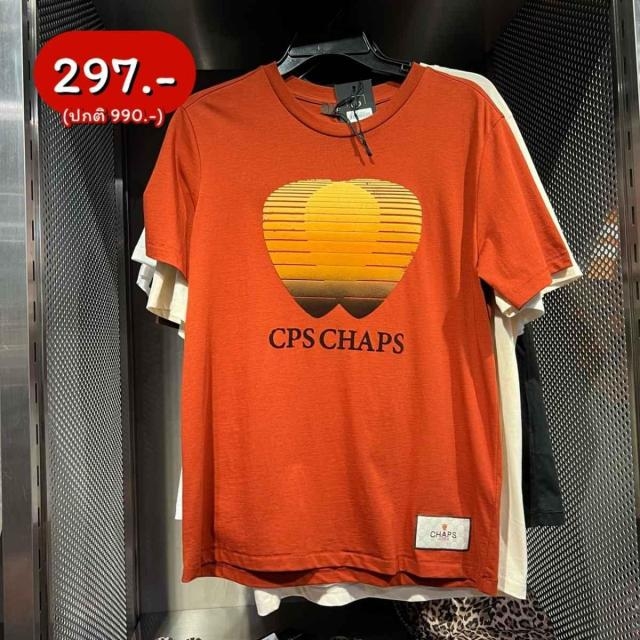Tshirt: (133, 64, 589, 603)
